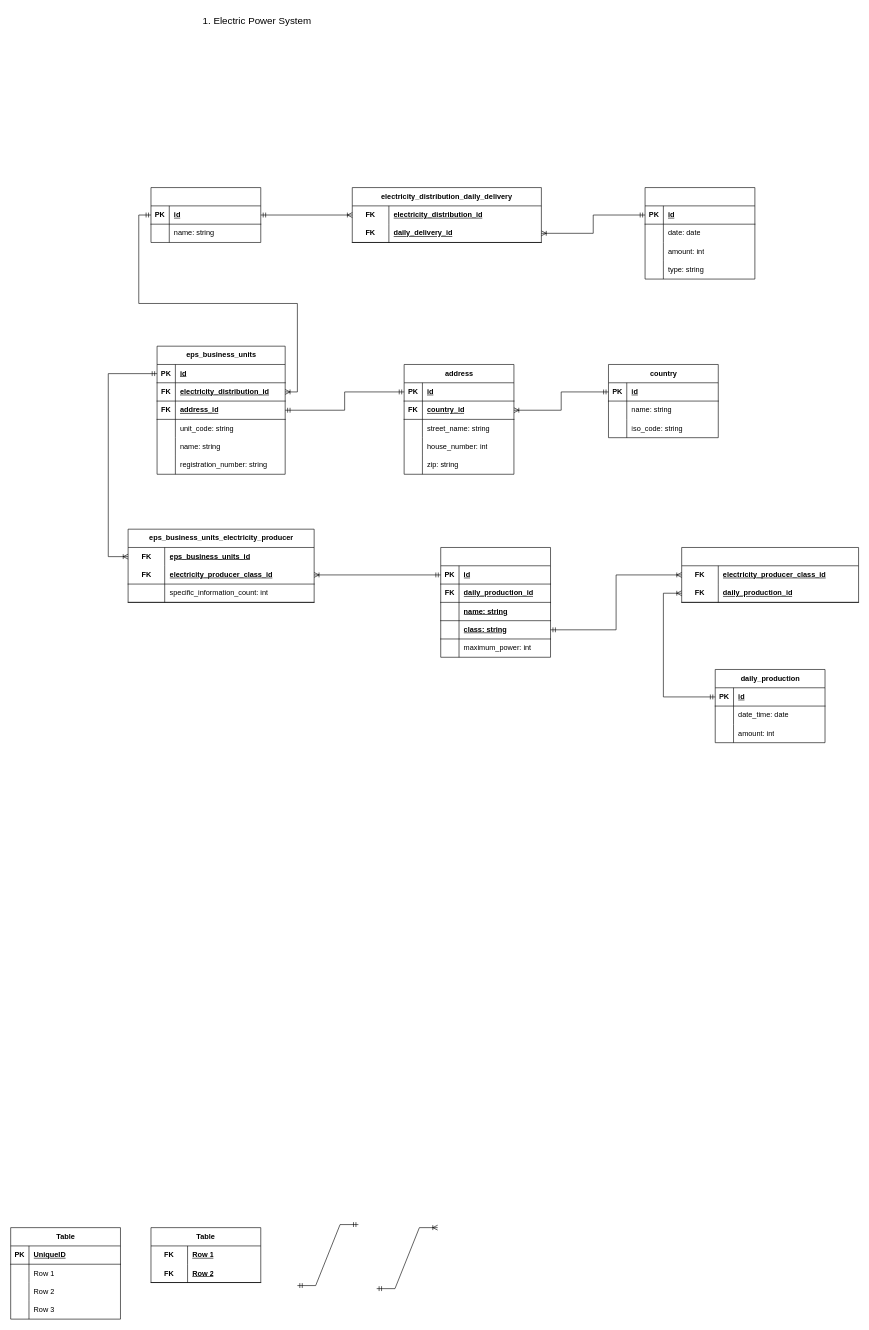
Some shapes in this 869 by 1330 pixel diagram are drawn without their labels. Here are the shapes that lost their labels. From the top down, the box of each, then its label:
(150, 187, 261, 242): electricity_distribution
(644, 187, 755, 279): daily_delivery
(681, 547, 859, 602): electricity_producer_ daily_production
(440, 547, 551, 657): electricity_producer
